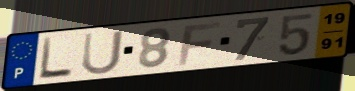5: (276, 11, 315, 56)
7: (233, 15, 272, 62)
8: (137, 26, 174, 70)
F: (176, 20, 224, 67)
L: (37, 36, 75, 81)
U: (80, 29, 126, 77)
